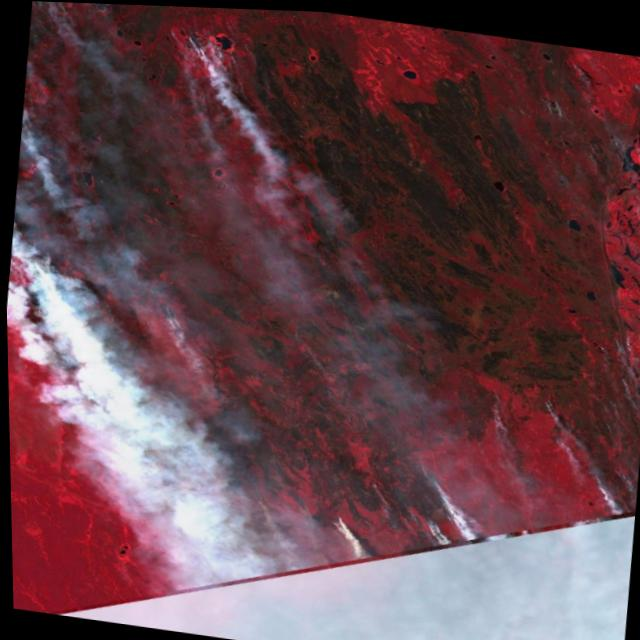fire: (550, 437, 629, 493), (179, 27, 221, 60), (533, 387, 563, 413), (318, 507, 346, 534), (423, 460, 445, 492), (480, 394, 504, 423), (413, 507, 433, 525)
